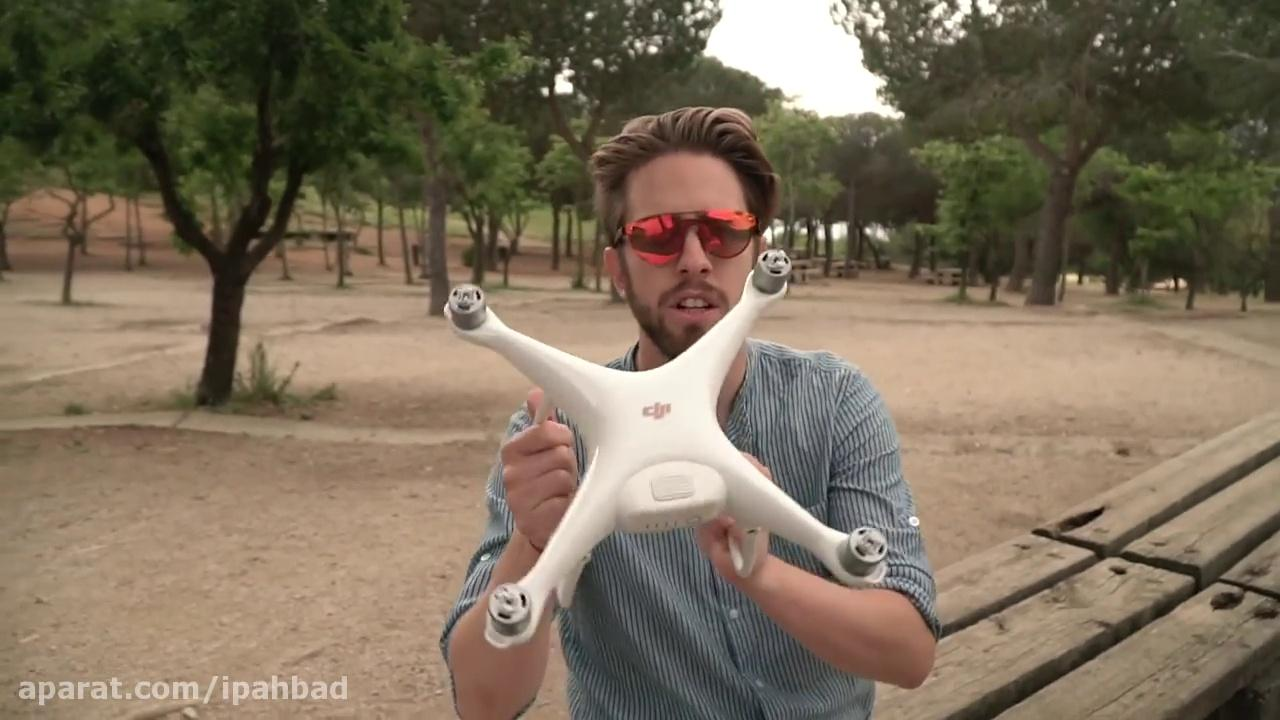drone: (442, 246, 889, 648)
